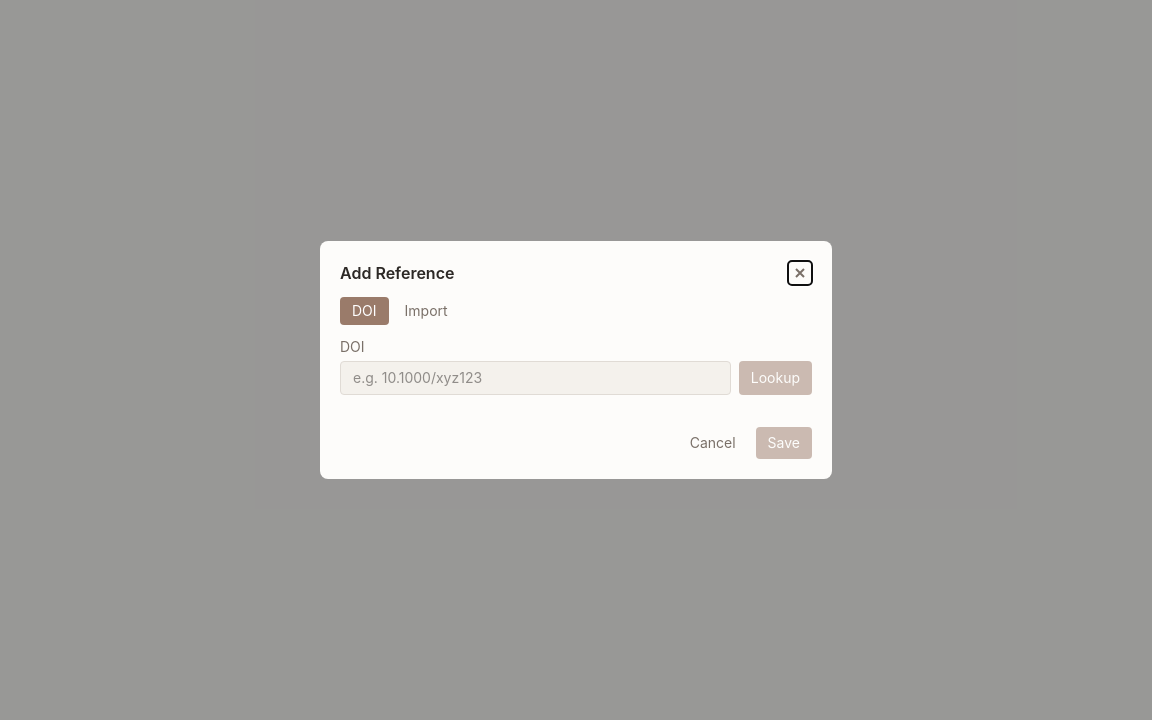
Scenario: AddReferenceDialog › displays error on lookup failure
Type "10.9999/fake" into the field with test id "add-reference-doi-input" at (535, 378), box [340,361,731,395]
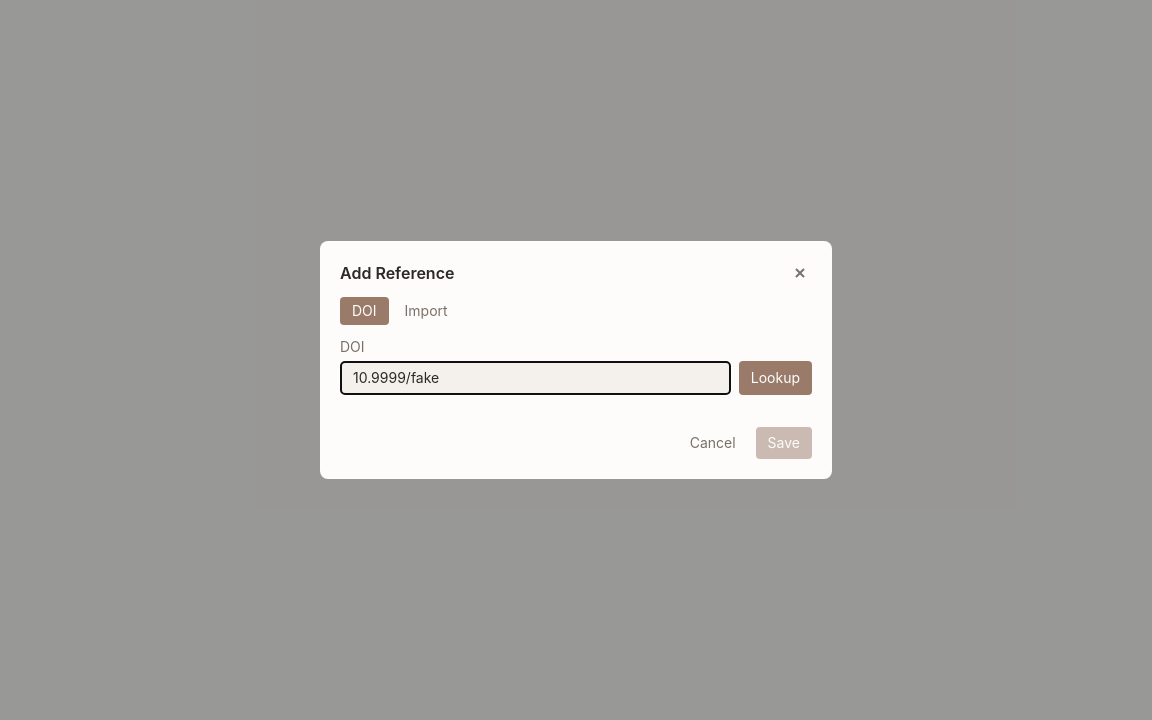
Click the button with test id "add-reference-lookup-btn" at (775, 378), box [739,361,812,395]
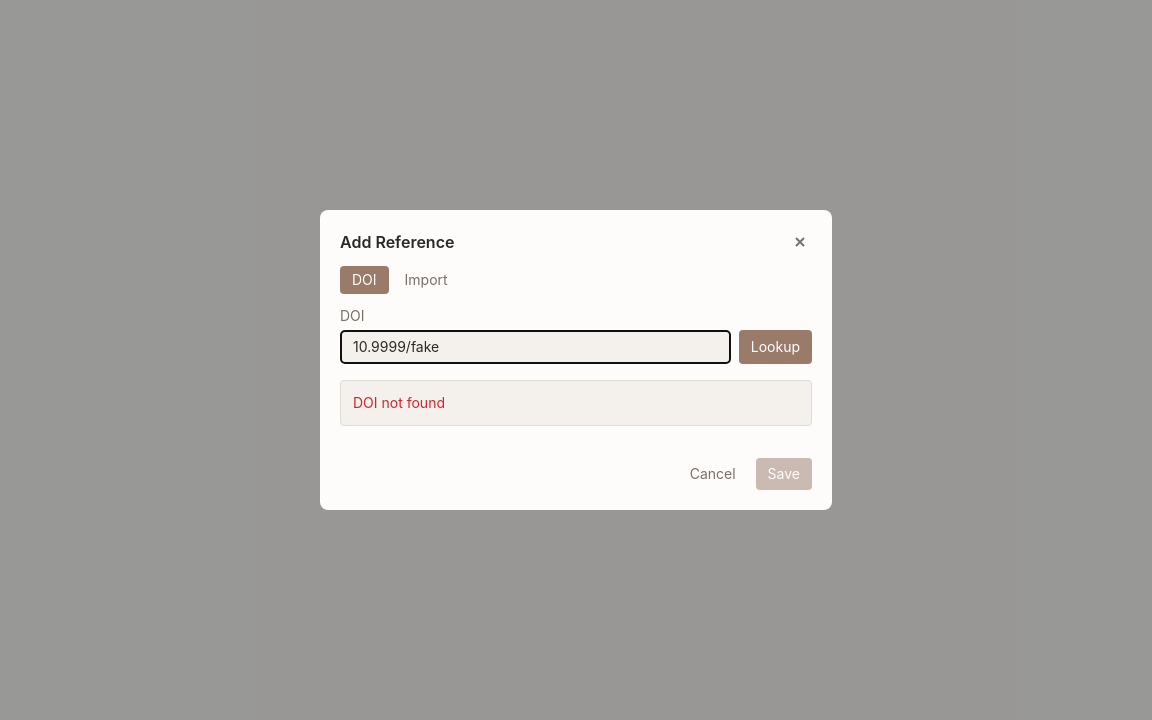
Now the text "DOI not found" is shown, box [340,380,812,426]
Now the text with test id "add-reference-error" reads "DOI not found", box [353,394,445,411]
